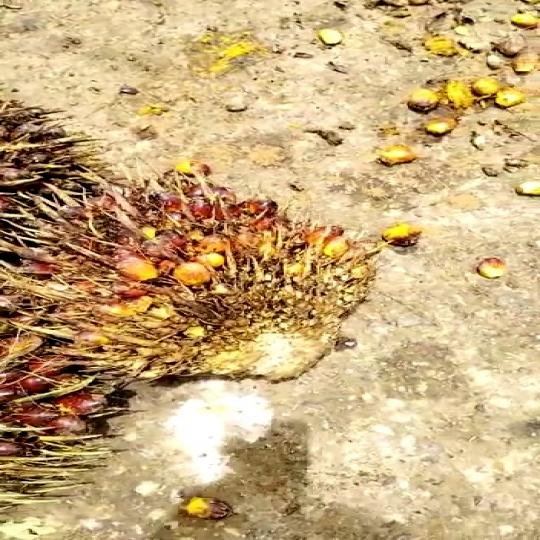masak: (0, 167, 388, 392)
